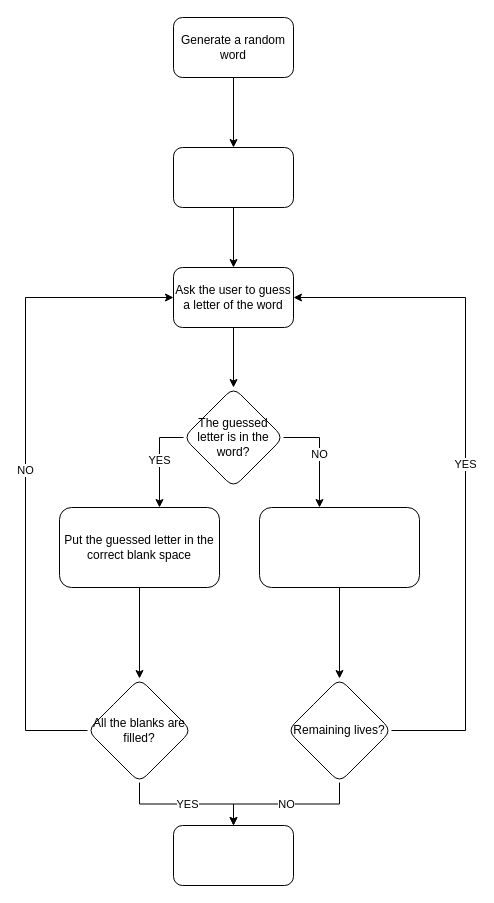
Some shapes in this 494 by 903 pixel diagram are drawn without their labels. The centre of each missing label's shape, as x and y in pixels:
Game ends: (x=233, y=855)
Generate blank spaces as the amount of letters in the word: (x=233, y=177)
Lose a life: (x=339, y=547)
